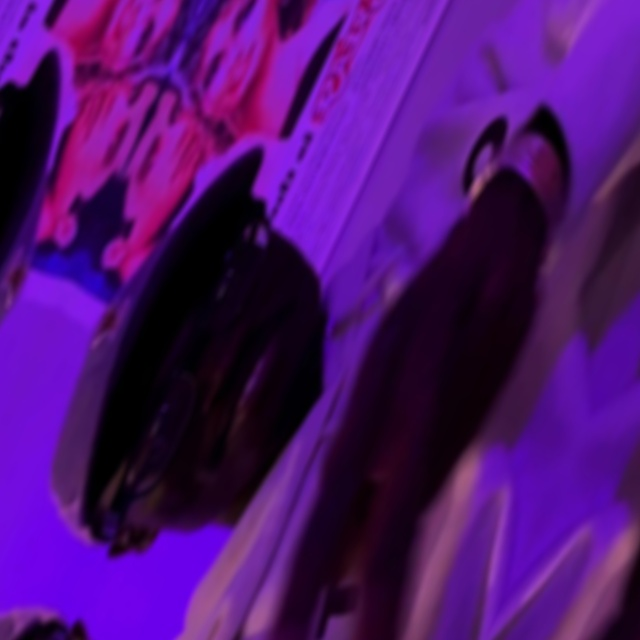Scissors: (221, 126, 640, 640)
